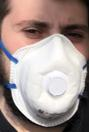with_mask: (1, 2, 89, 132)
